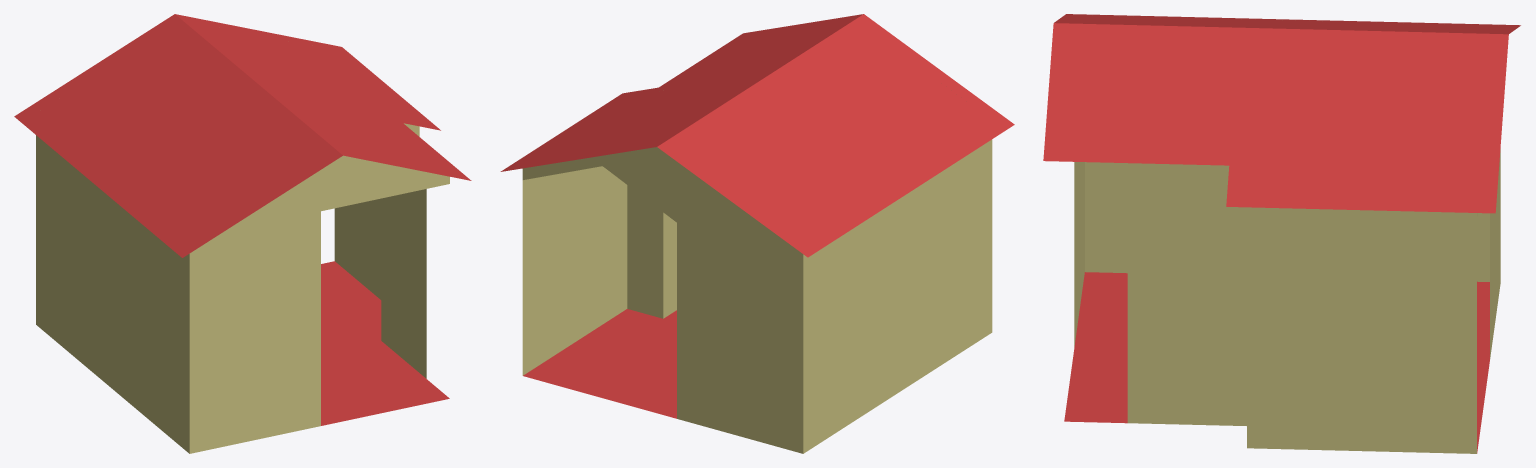
3 renders of one model, left to right at view 1: azimuth 30°, elevation 25°; view 2: azimuth 150°, elevation 25°; view 3: azimuth 270°, elevation 25°, orthographic. The views are drawn at different scales.
Size of the model in its own units: 11.94 by 12.09 by 9.28.
